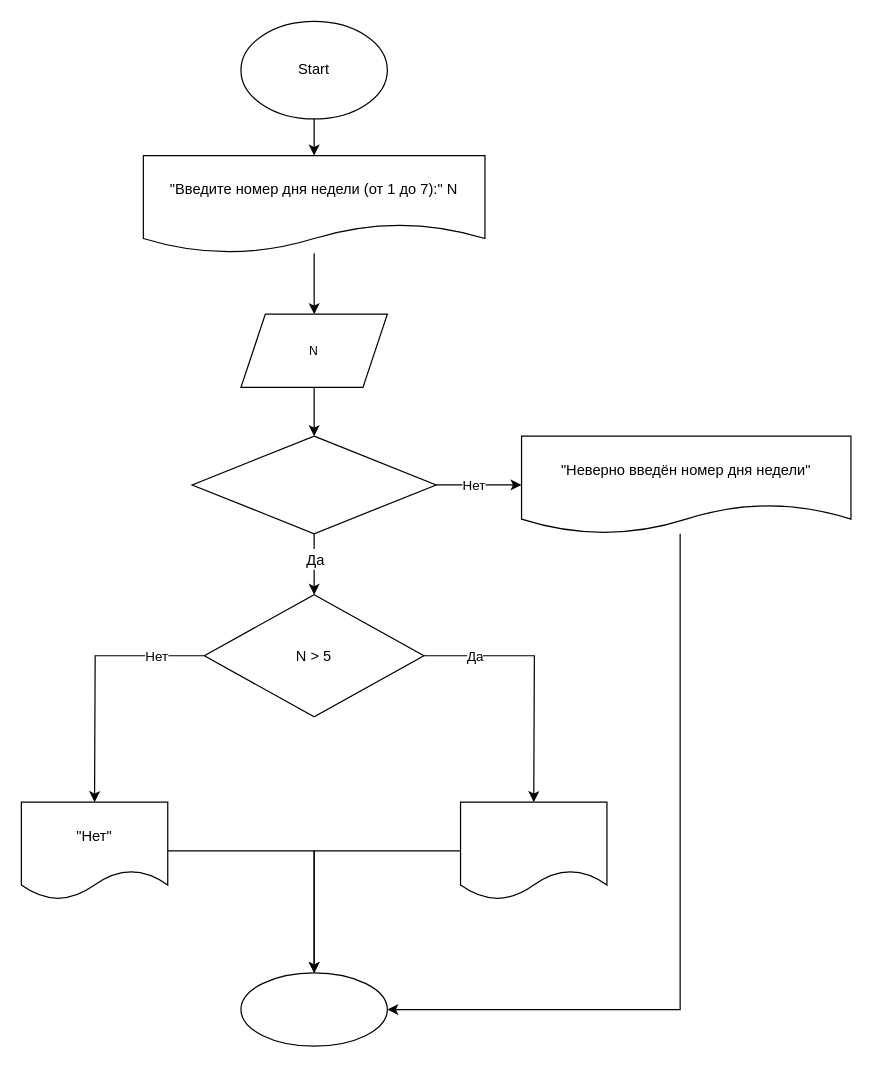
The diagram is 872 pixels wide and 1068 high, and some of its shapes have lost their labels. Here are the shapes that lost their labels. From the top down, the centre of each, then its label:
[313,484]: N >= 1 && N <= 7
[533,850]: "Да"
[313,1009]: END
